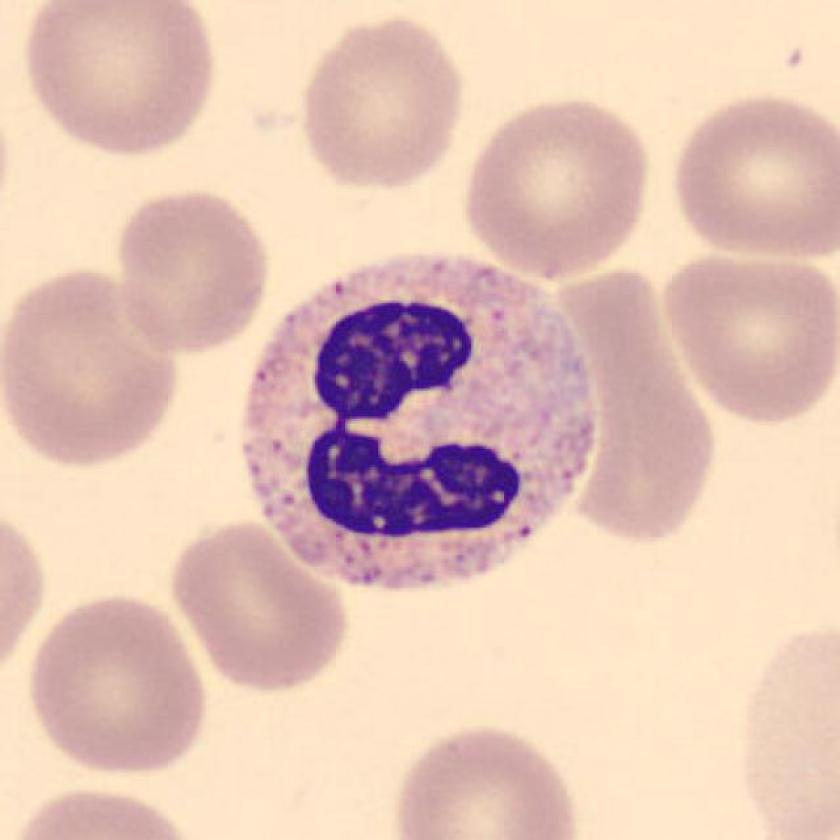neutrophil: (242, 253, 601, 588)
